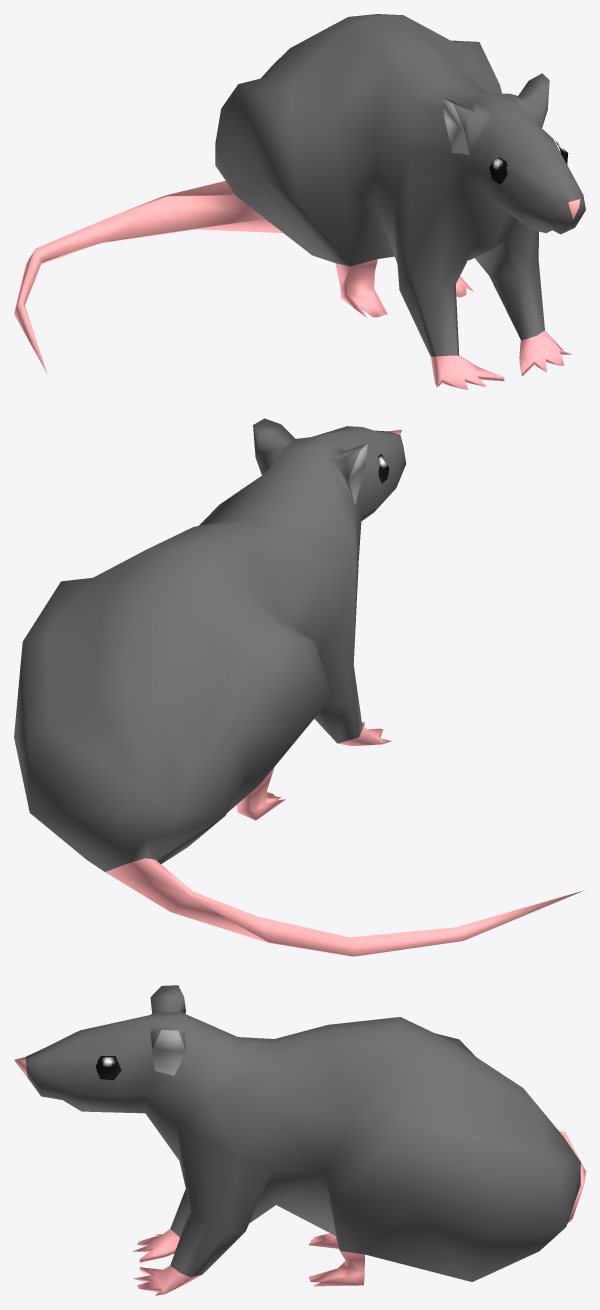
Rendered from 5a87fdba-5acd-4def-8c1f-960ceb7be8bb.glb.
The picture shows the model from 3 angles, top to bottom: view 1: azimuth 30°, elevation 25°; view 2: azimuth 150°, elevation 25°; view 3: azimuth 270°, elevation 25°; orthographic projection. The views are drawn at different scales.
Parts seen in each view (by area): view 1: Rat; view 2: Rat; view 3: Rat.
Boxes of the visible parts, box(x1,y1,x2,y2) form: Rat: box(14, 14, 585, 389); Rat: box(14, 418, 584, 956); Rat: box(14, 985, 585, 1295).
Size of what is drawn, in the model's own units: 0.4245 by 0.243 by 0.4865.
Materials: 1 (1 with a texture image).
